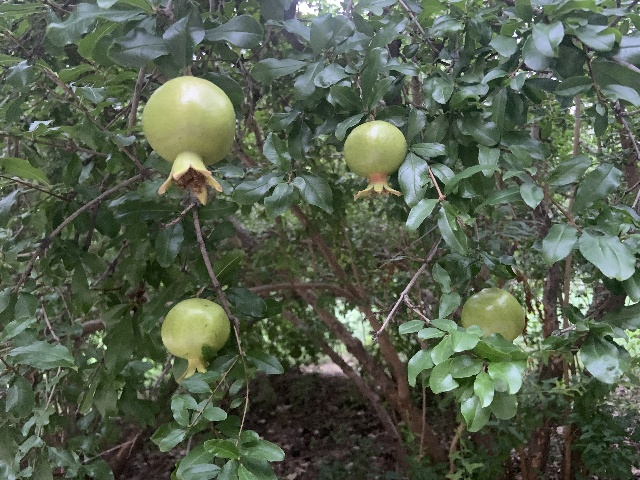mid-growth: (142, 74, 236, 204), (161, 297, 230, 380), (460, 287, 533, 363), (343, 119, 406, 200)
